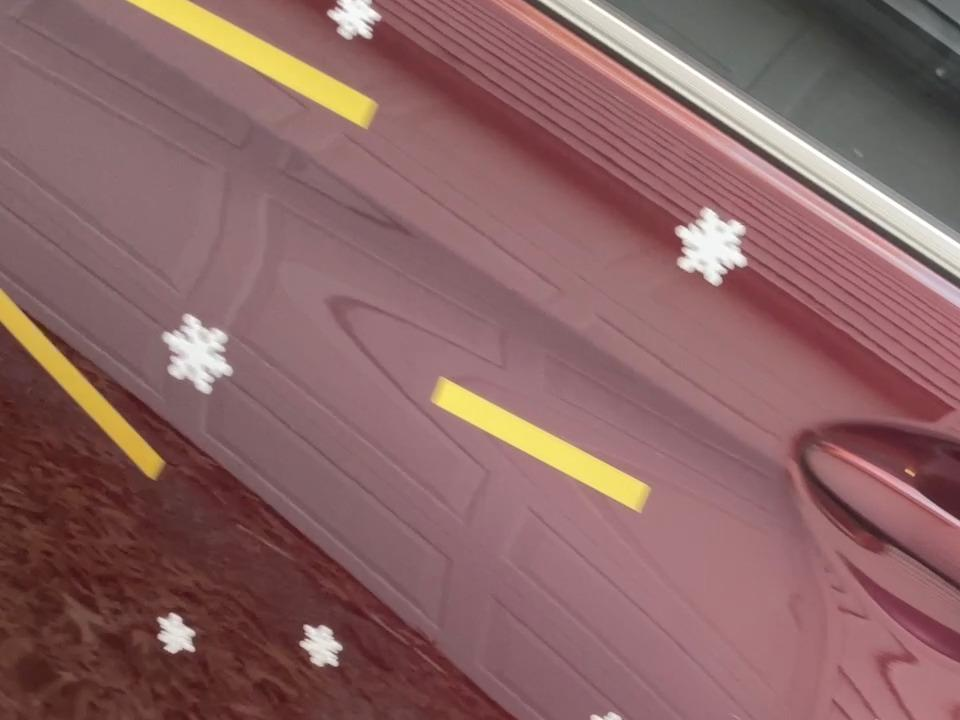dent: (671, 194, 760, 288), (159, 306, 240, 400), (149, 601, 203, 667), (291, 616, 351, 672), (326, 0, 390, 48), (578, 701, 639, 720), (821, 716, 935, 720)
scratch: (0, 271, 177, 492), (424, 366, 659, 525), (132, 0, 380, 137)
